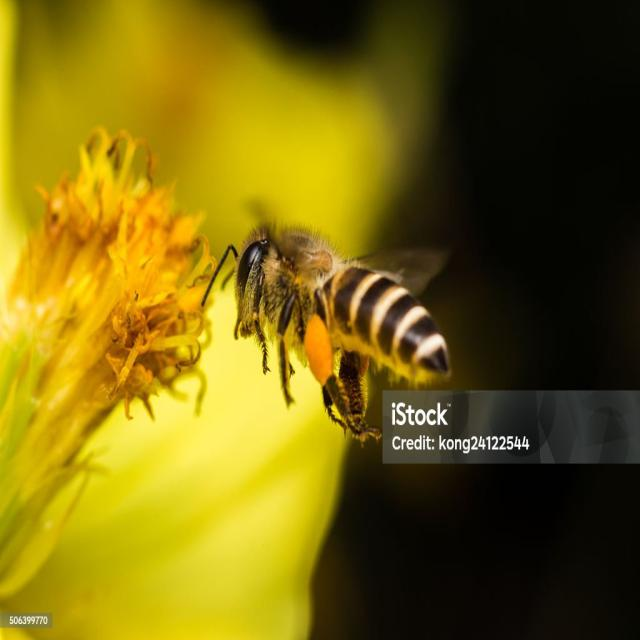bees: (200, 214, 453, 447)
